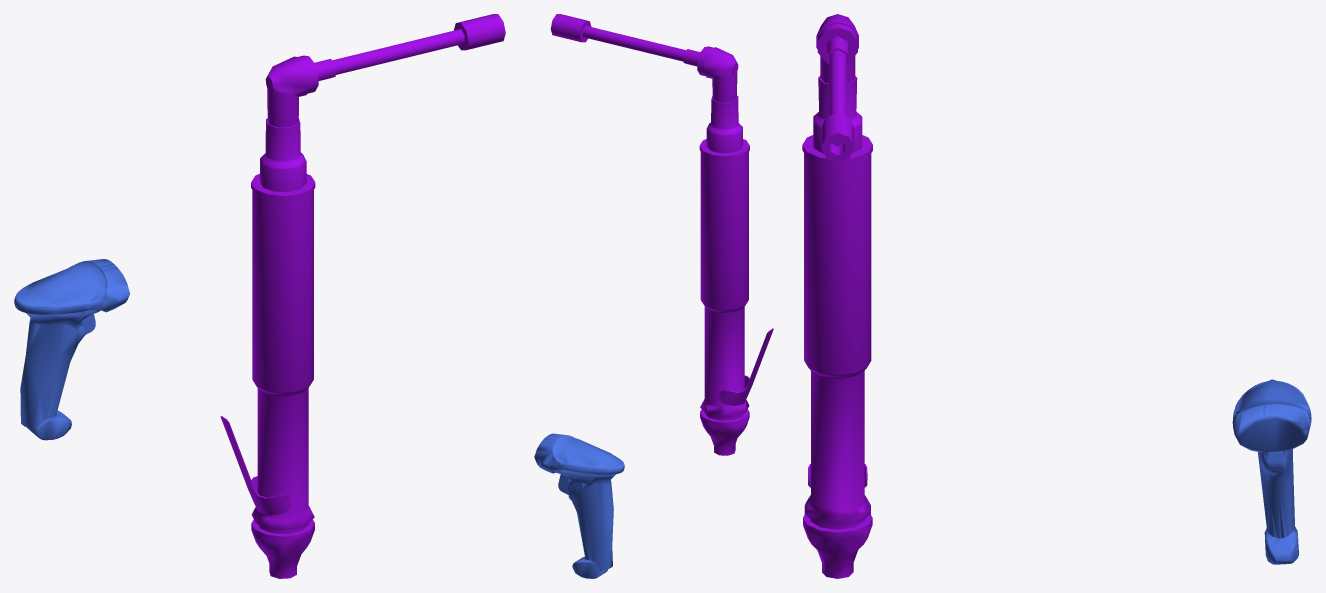
The model's file is NutRunner and Scanner .fbx.
3 renders of one model, left to right at view 1: azimuth 30°, elevation 25°; view 2: azimuth 150°, elevation 25°; view 3: azimuth 270°, elevation 25°, orthographic. The views are drawn at different scales.
Visible parts, largest first — view 1: NutRunner, Scanner, Tip Rotate, Trigger; view 2: NutRunner, Scanner, Tip Rotate, Trigger; view 3: NutRunner, Scanner, Tip Rotate.
Boxes of the visible parts, x1,y1,x2,y2 form: NutRunner: (251,55,335,578); Scanner: (14,259,129,440); Tip Rotate: (332,14,505,74); Trigger: (220,416,291,515); NutRunner: (683,46,749,455); Scanner: (534,433,624,578); Tip Rotate: (550,14,686,61); Trigger: (718,328,773,405); NutRunner: (802,14,872,578); Scanner: (1232,379,1311,564); Tip Rotate: (821,50,854,162).
Bounding box in the file's own units: 28.99 × 50.29 × 41.2.
